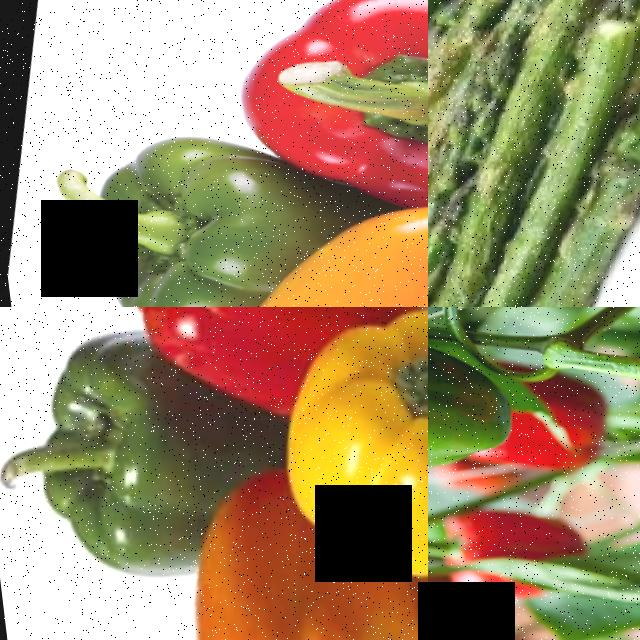bell pepper: (0, 334, 226, 608), (8, 105, 275, 307), (229, 0, 428, 264), (275, 314, 428, 586), (155, 509, 401, 640), (111, 307, 347, 399), (428, 325, 510, 503)
